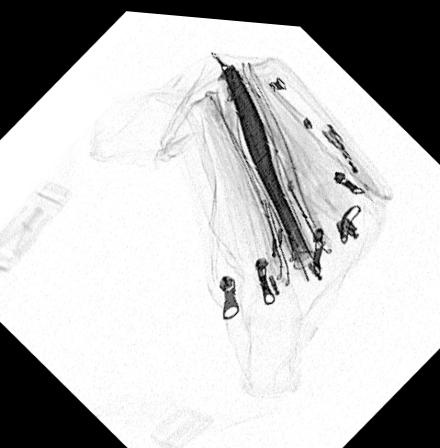Lighter: (320, 115, 381, 190)
